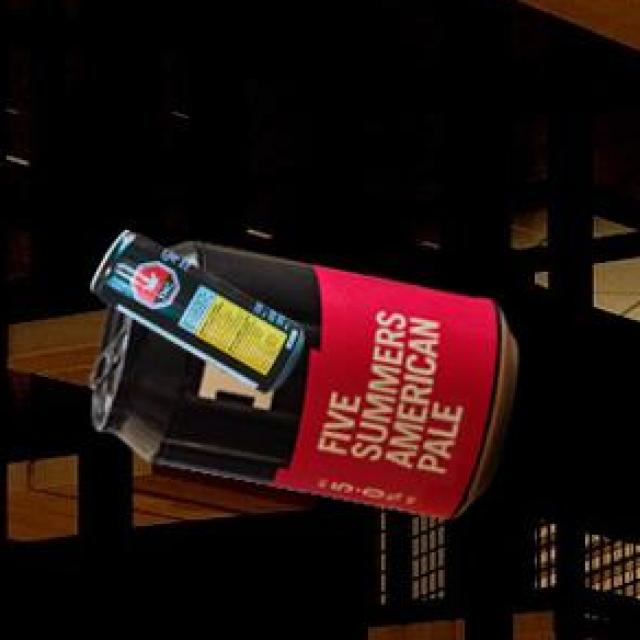logam: (93, 244, 521, 523), (95, 233, 306, 396)
